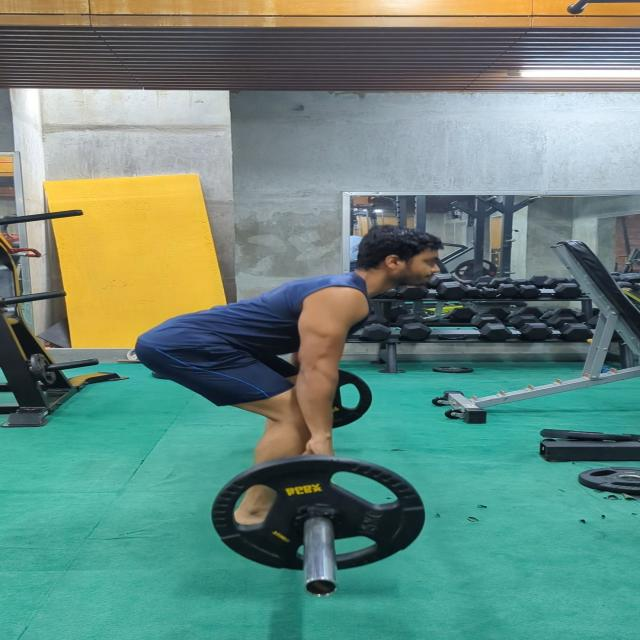Normal_Deadlifts: (131, 227, 445, 526)
